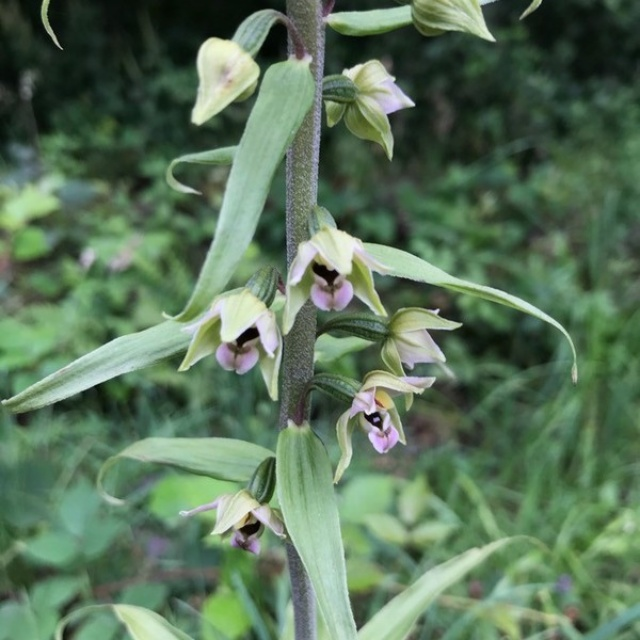obstacle: (188, 35, 506, 580)
